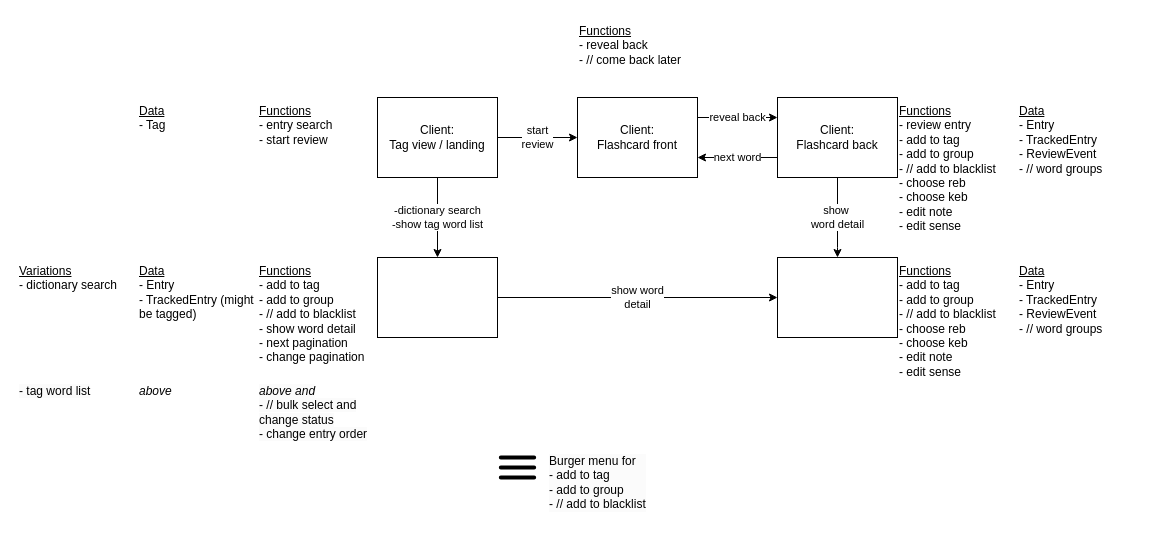
The diagram is 1154 pixels wide and 534 high, and some of its shapes have lost their labels. The centre of each missing label's shape, as x and y in pixels:
"Client: List of words query view" belongs at point (437, 297).
"Client: Word detail view" belongs at point (837, 297).
